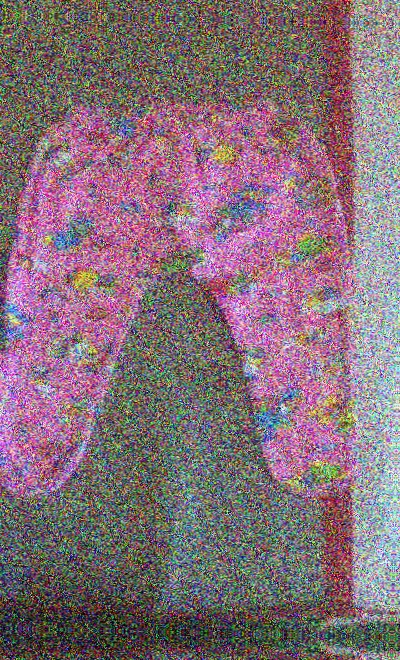Pants: (0, 69, 393, 543)
